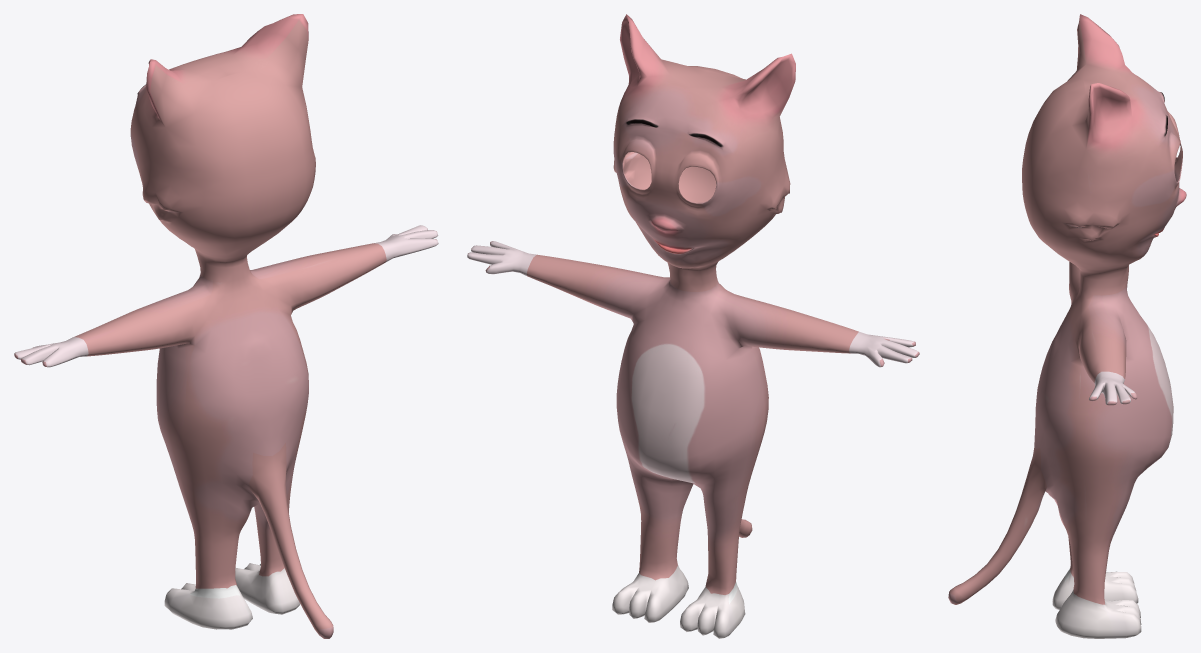
Rendered from TheCat.FBX.
3 views of the same model, side by side, from view 1: azimuth 30°, elevation 25°; view 2: azimuth 150°, elevation 25°; view 3: azimuth 270°, elevation 25° (orthographic). The views are drawn at different scales.
Visible parts, largest first — view 1: Plane004; view 2: Plane004; view 3: Plane004.
Part boxes in pixels (x1,y1,x2,y2): Plane004: (14,14,438,638); Plane004: (467,14,919,638); Plane004: (948,14,1186,638).
Bounding box in the file's own units: 142 × 184 × 70.6.
